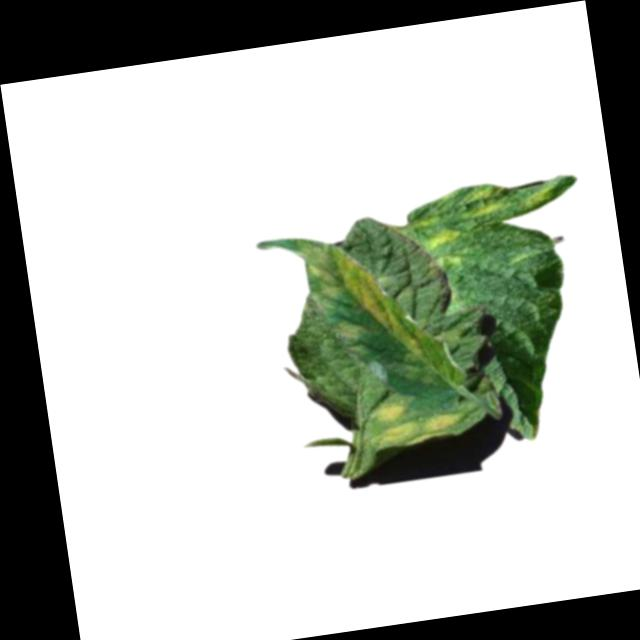Leaf_Mold: (294, 232, 401, 341), (367, 386, 465, 452), (459, 180, 510, 223), (418, 227, 465, 270)
